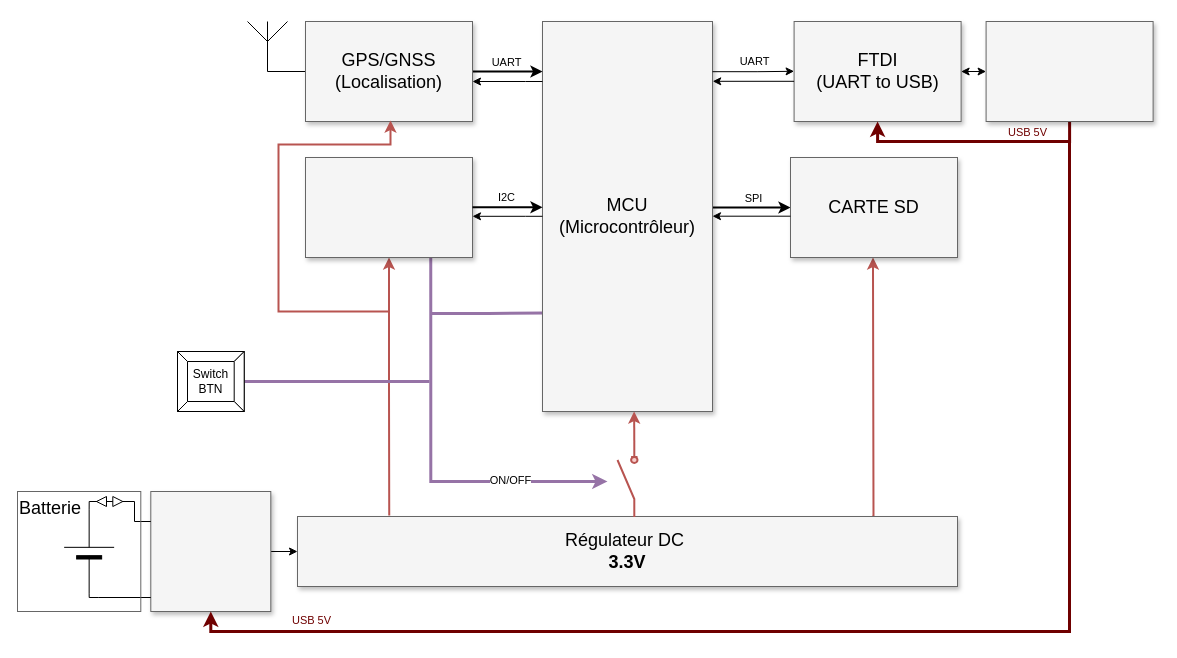
Image size: 1177x658. Some labels were removed from this diagram. The shapes that lost their labels are listed below. From the top down, each one's centre as x and y in pixels, then its label:
At (x=1070, y=72): "CONNECTEUR USB".
At (x=389, y=208): "IMU (Centrale inertielle)".
At (x=211, y=552): "Régulateur de charge".
